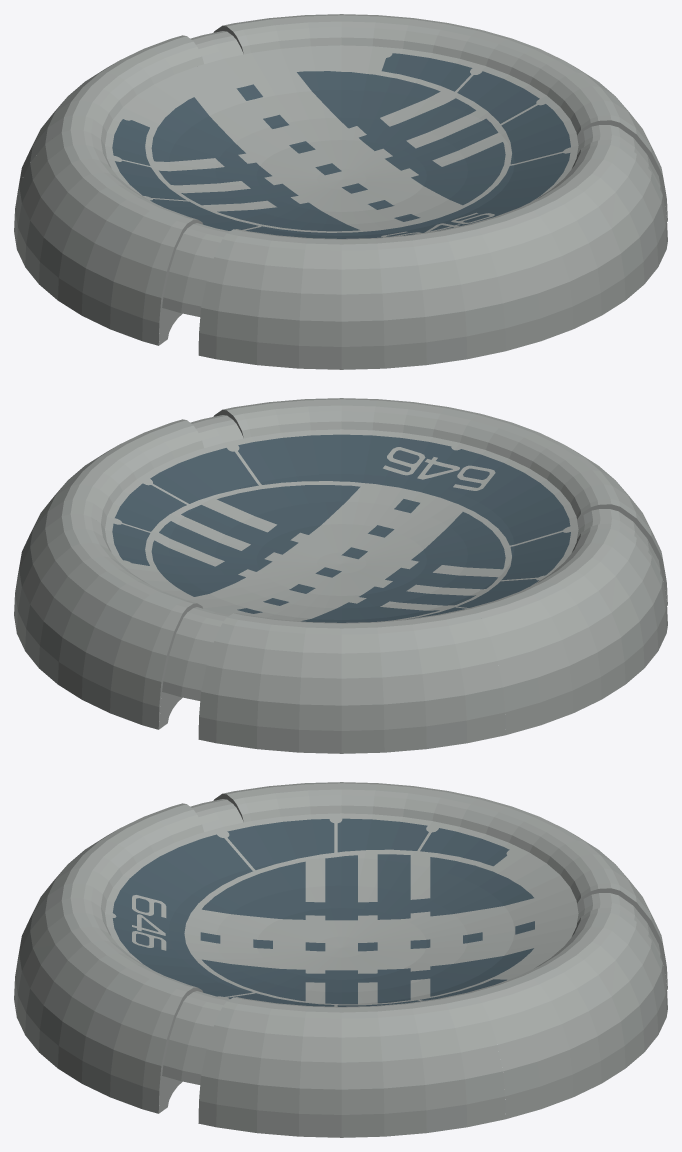
The picture shows the model from 3 angles, top to bottom: view 1: azimuth 30°, elevation 25°; view 2: azimuth 150°, elevation 25°; view 3: azimuth 270°, elevation 25°; orthographic projection.
Parts seen in each view (by area): view 1: world; view 2: world; view 3: world.
Boxes of the visible parts, left/top/right/bottom form: world: left=14, top=14, right=667, bottom=369; world: left=14, top=398, right=667, bottom=753; world: left=14, top=782, right=667, bottom=1137.
Size of the model in its own units: 0.04 by 0.00683 by 0.0399.
